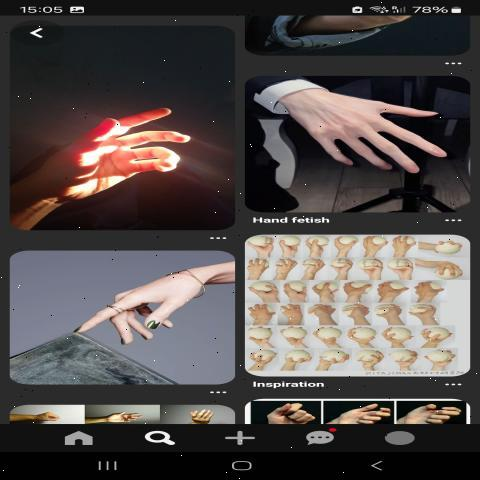Hands: (34, 66, 216, 218), (275, 78, 456, 188), (63, 248, 226, 355)
